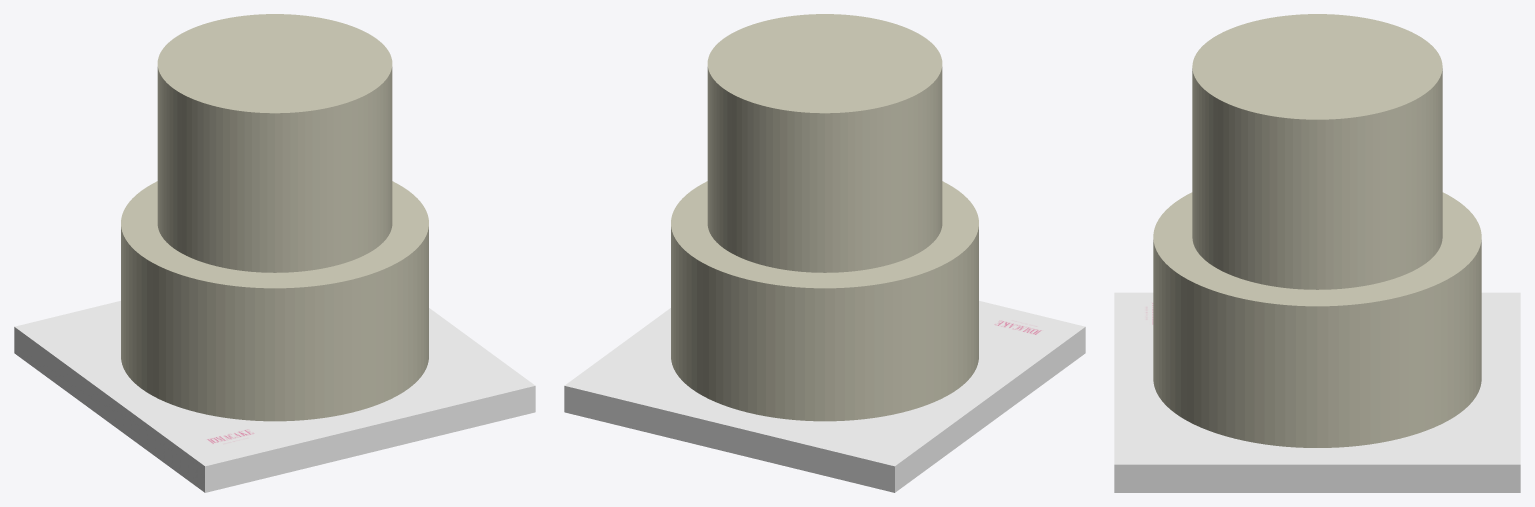
File: cake_tier2_8-6_layers3_v33.glb
The picture shows the model from 3 angles, left to right: view 1: azimuth 30°, elevation 25°; view 2: azimuth 150°, elevation 25°; view 3: azimuth 270°, elevation 25°; orthographic projection. The views are drawn at different scales.
Parts seen in each view (by area): view 1: Tier1, Tier0, Board, Logo; view 2: Tier1, Tier0, Board, Logo; view 3: Tier1, Tier0, Board, Logo.
Part boxes in pixels (x1,y1,x2,y2): Tier1: [157, 14, 392, 272]; Tier0: [121, 181, 428, 421]; Board: [14, 301, 535, 492]; Logo: [198, 426, 265, 449]; Tier1: [707, 14, 942, 272]; Tier0: [671, 181, 978, 421]; Board: [564, 301, 1085, 492]; Logo: [986, 314, 1053, 338]; Tier1: [1192, 14, 1442, 289]; Tier0: [1153, 192, 1481, 447]; Board: [1114, 292, 1520, 492]; Logo: [1138, 300, 1153, 327].
Bounding box in the file's own units: 0.26 × 0.24 × 0.26.
